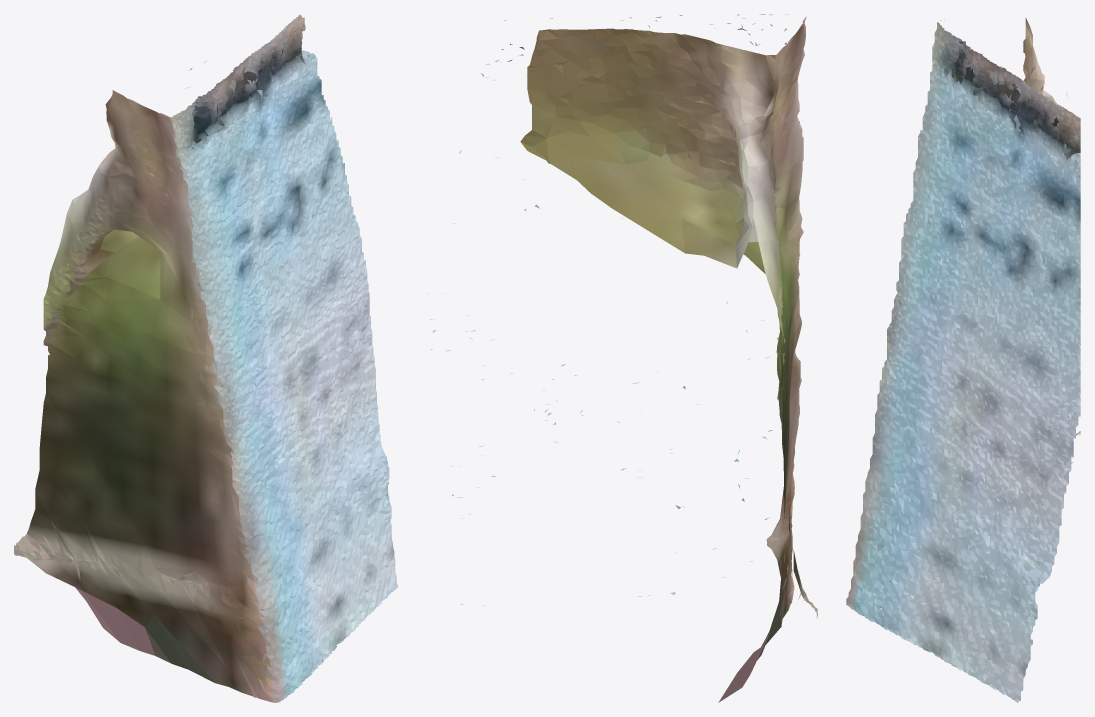
The picture shows the model from 3 angles, left to right: view 1: azimuth 30°, elevation 25°; view 2: azimuth 150°, elevation 25°; view 3: azimuth 270°, elevation 25°; orthographic projection. The views are drawn at different scales.
Bounding box in the file's own units: 0.3199 × 0.4915 × 0.1889.
1 material, 1 textured.
